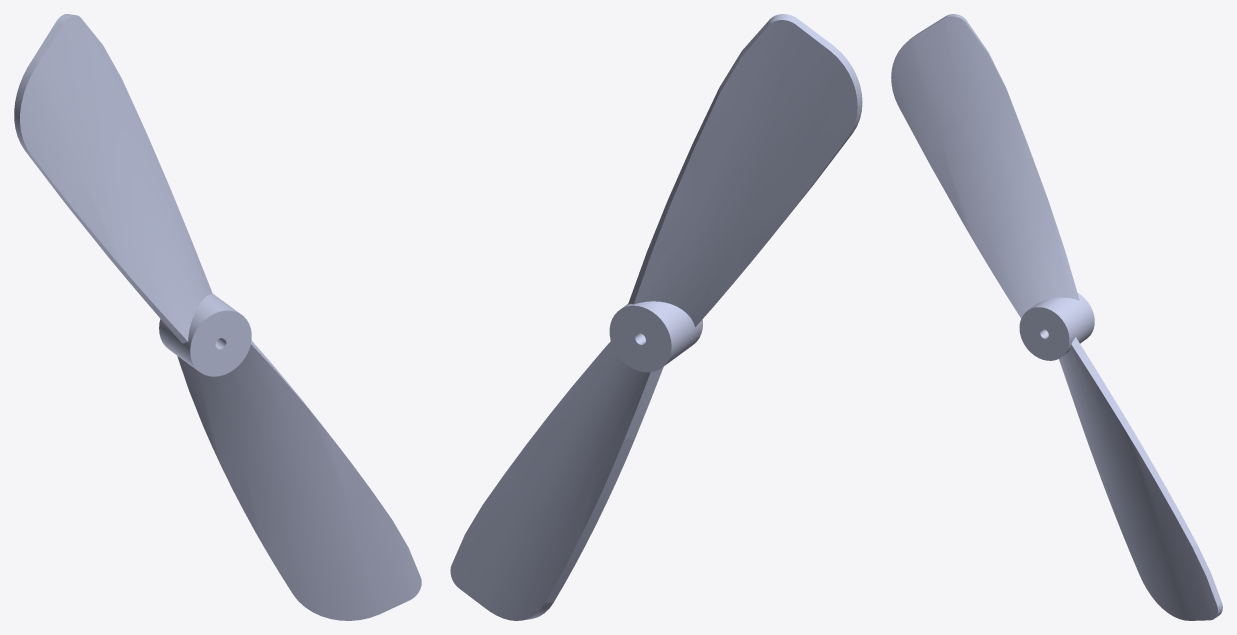
The model's file is propeller3.obj.
The picture shows the model from 3 angles, left to right: view 1: azimuth 30°, elevation 25°; view 2: azimuth 150°, elevation 25°; view 3: azimuth 330°, elevation 25°; orthographic projection. The views are drawn at different scales.
Size of the model in its own units: 0.0262 by 0.0414 by 0.00352.
